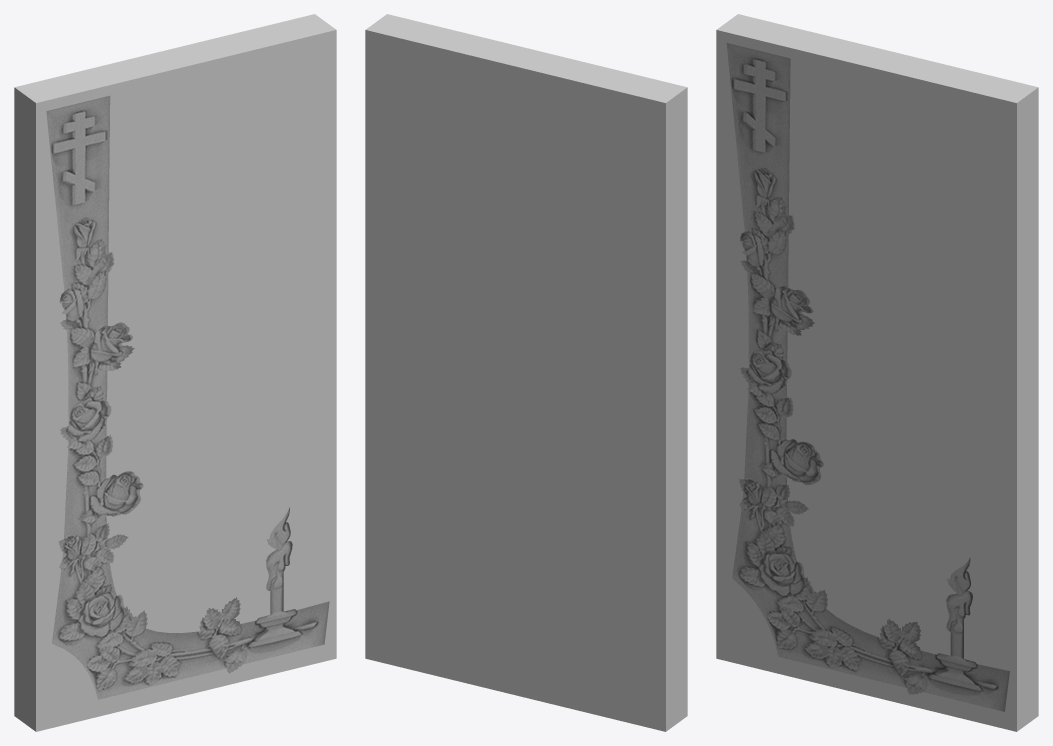
File: cn3701a0824b_tkf.glb
3 renders of one model, left to right at view 1: azimuth 30°, elevation 25°; view 2: azimuth 150°, elevation 25°; view 3: azimuth 330°, elevation 25°, orthographic.
Visible parts, largest first — view 1: Pam-d01-138, Pam-d01-138_2_notexture; view 2: Pam-d01-138; view 3: Pam-d01-138, Pam-d01-138_2_notexture.
Boxes of the visible parts, box(x1,y1,x2,y2) form: Pam-d01-138: box(14, 14, 336, 731); Pam-d01-138_2_notexture: box(46, 95, 329, 699); Pam-d01-138: box(365, 14, 687, 731); Pam-d01-138: box(716, 14, 1038, 731); Pam-d01-138_2_notexture: box(726, 43, 1009, 711).
Size of the model in its own units: 0.4 by 0.8 by 0.05.
Materials: 1 (1 with a texture image).
